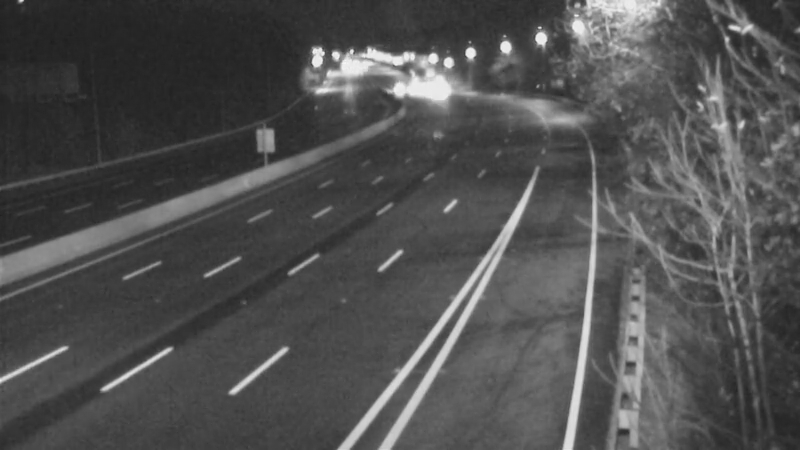vehicle: (403, 70, 453, 120), (368, 63, 418, 113)
